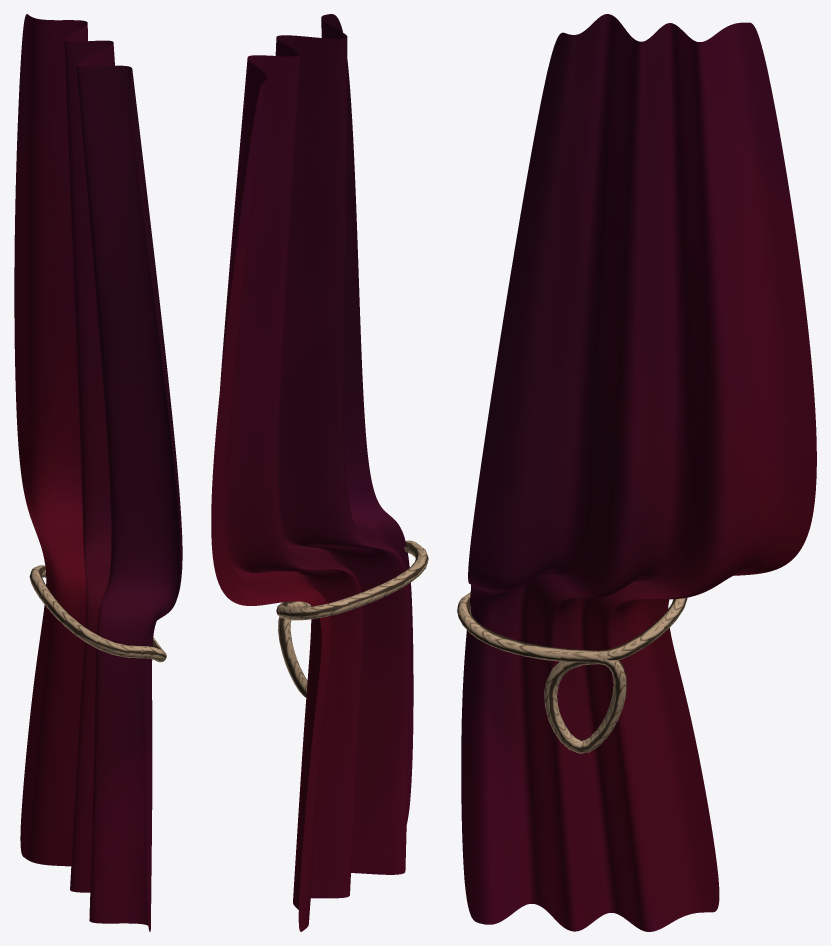
File: firana.fbx
3 views of the same model, side by side, from view 1: azimuth 30°, elevation 25°; view 2: azimuth 150°, elevation 25°; view 3: azimuth 270°, elevation 25° (orthographic). The views are drawn at different scales.
Parts seen in each view (by area): view 1: Plane, BezierCurve; view 2: Plane, BezierCurve; view 3: Plane, BezierCurve.
Part boxes in pixels (x1,y1,x2,y2): Plane: (14,14,182,931); BezierCurve: (29,565,166,662); Plane: (211,14,413,931); BezierCurve: (276,540,428,697); Plane: (461,14,816,931); BezierCurve: (457,592,687,753).
Bounding box in the file's own units: 198 × 1471 × 532.
